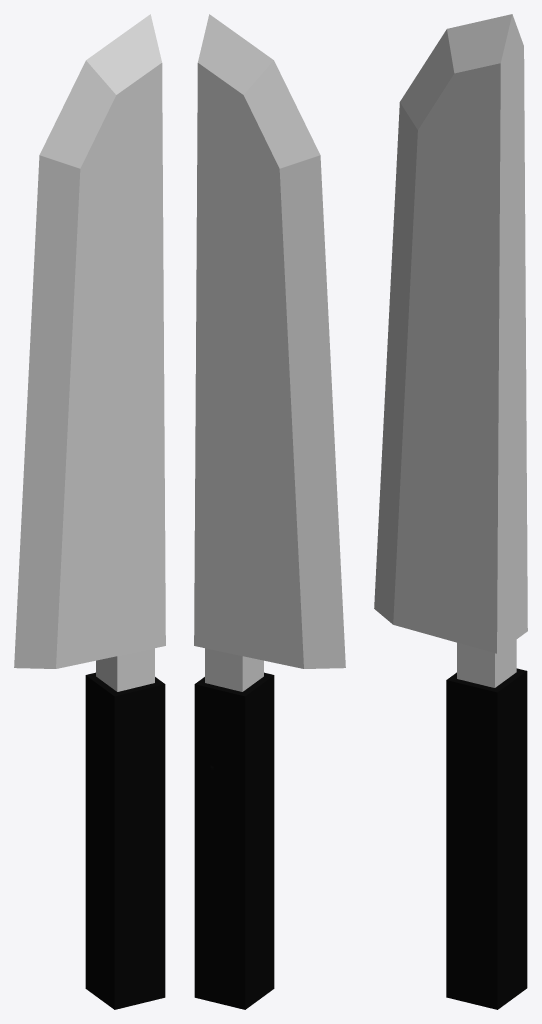
Rendered from kitchenKnife1_PLY.fbx.
3 views of the same model, side by side, from view 1: azimuth 30°, elevation 25°; view 2: azimuth 150°, elevation 25°; view 3: azimuth 330°, elevation 25° (orthographic).
Parts seen in each view (by area): view 1: kitchenKnife1_PLY; view 2: kitchenKnife1_PLY; view 3: kitchenKnife1_PLY.
Part boxes in pixels (box(x1,y1,x2,y2)): kitchenKnife1_PLY: box(14, 14, 165, 1009); kitchenKnife1_PLY: box(194, 14, 345, 1009); kitchenKnife1_PLY: box(374, 14, 527, 1009).
Bounding box in the file's own units: 0.2009 × 1.37 × 0.0776.
